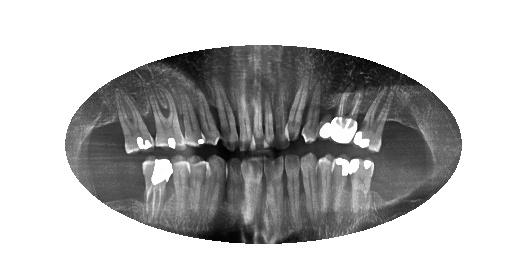i10decay: (221, 152, 243, 220)
i11healthy: (204, 152, 228, 218)
i12healthy: (186, 154, 209, 212)
i13healthy: (168, 153, 193, 210)
i14healthy: (138, 156, 172, 218)
i15loss: (121, 162, 148, 212)
i2loss: (366, 158, 390, 206)
i3healthy: (347, 155, 376, 212)
i4healthy: (331, 154, 352, 215)
i5healthy: (314, 146, 337, 227)
i6chipped: (298, 151, 321, 216)
i7healthy: (281, 149, 303, 217)
i8chipped: (261, 151, 288, 223)
i9healthy: (239, 155, 264, 226)
u10healthy: (230, 83, 256, 151)
u11healthy: (208, 74, 242, 150)
u12chipped: (193, 82, 224, 148)
u13healthy: (175, 84, 207, 148)
u14healthy: (143, 84, 188, 149)
u15healthy: (108, 86, 158, 157)
u2healthy: (351, 77, 396, 155)
u3healthy: (329, 78, 365, 146)
u4loss: (318, 80, 336, 141)
u5chipped: (300, 78, 324, 145)
u6healthy: (282, 75, 306, 143)
u7decay: (270, 82, 291, 151)
u8healthy: (260, 87, 278, 149)
u9healthy: (251, 83, 266, 147)
